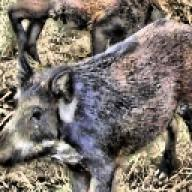boar: (0, 15, 192, 192), (0, 0, 166, 63)
